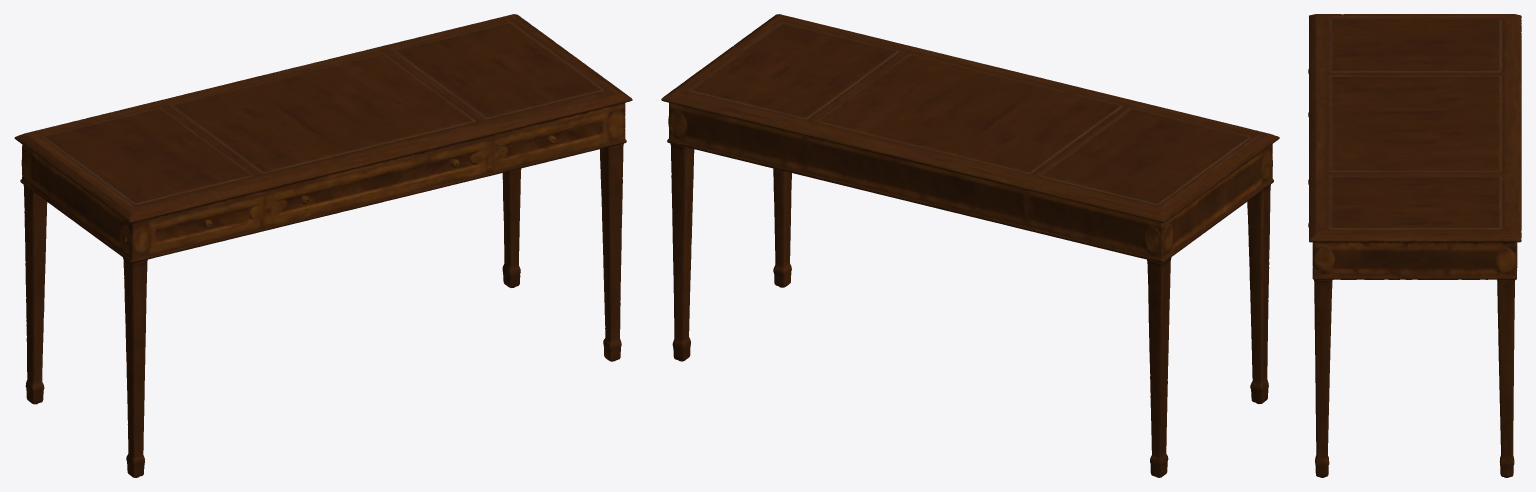
The model's file is Neoclassical Leather-Top Writing Desk [a8kz6q].glb.
3 renders of one model, left to right at view 1: azimuth 30°, elevation 25°; view 2: azimuth 150°, elevation 25°; view 3: azimuth 270°, elevation 25°, orthographic. The views are drawn at different scales.
Visible parts, largest first — view 1: geometry_0; view 2: geometry_0; view 3: geometry_0.
Boxes of the visible parts, x1,y1,x2,y2 form: geometry_0: (14, 14, 632, 477); geometry_0: (661, 14, 1279, 477); geometry_0: (1308, 14, 1521, 477).
Bounding box in the file's own units: 1 × 0.5096 × 0.4004.
Materials: 1 (1 with a texture image).
